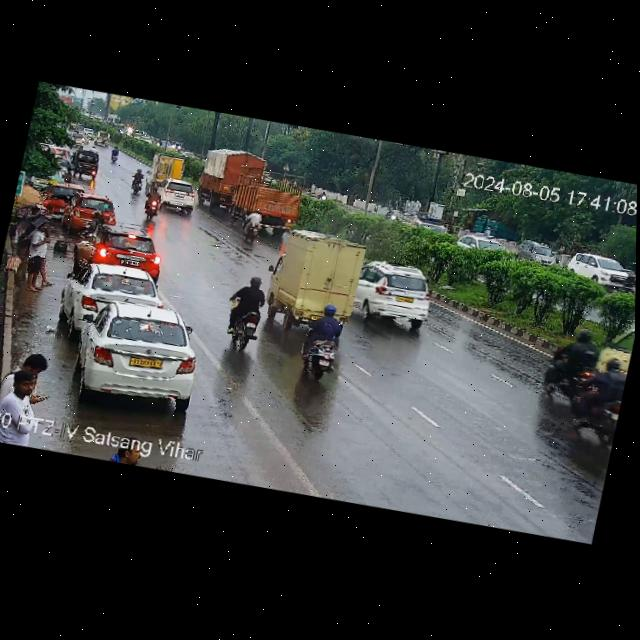car: (68, 293, 210, 411), (65, 256, 165, 336), (354, 259, 443, 336), (85, 223, 170, 278), (561, 249, 636, 296), (61, 189, 123, 240), (152, 176, 200, 218), (39, 175, 83, 215), (601, 319, 635, 367), (515, 237, 560, 267), (462, 232, 510, 258), (67, 146, 102, 181)
motorcycle: (562, 358, 628, 444), (289, 297, 352, 383), (538, 327, 607, 404), (226, 273, 269, 350), (139, 186, 170, 221), (243, 206, 264, 244), (90, 128, 120, 151), (90, 206, 110, 231), (130, 168, 148, 195), (109, 143, 125, 167), (110, 146, 123, 166)
person: (1, 345, 63, 403), (21, 219, 56, 295), (115, 442, 142, 467)
truck: (256, 222, 373, 340), (193, 142, 273, 219), (224, 181, 305, 241), (392, 207, 451, 237), (148, 151, 192, 184)
